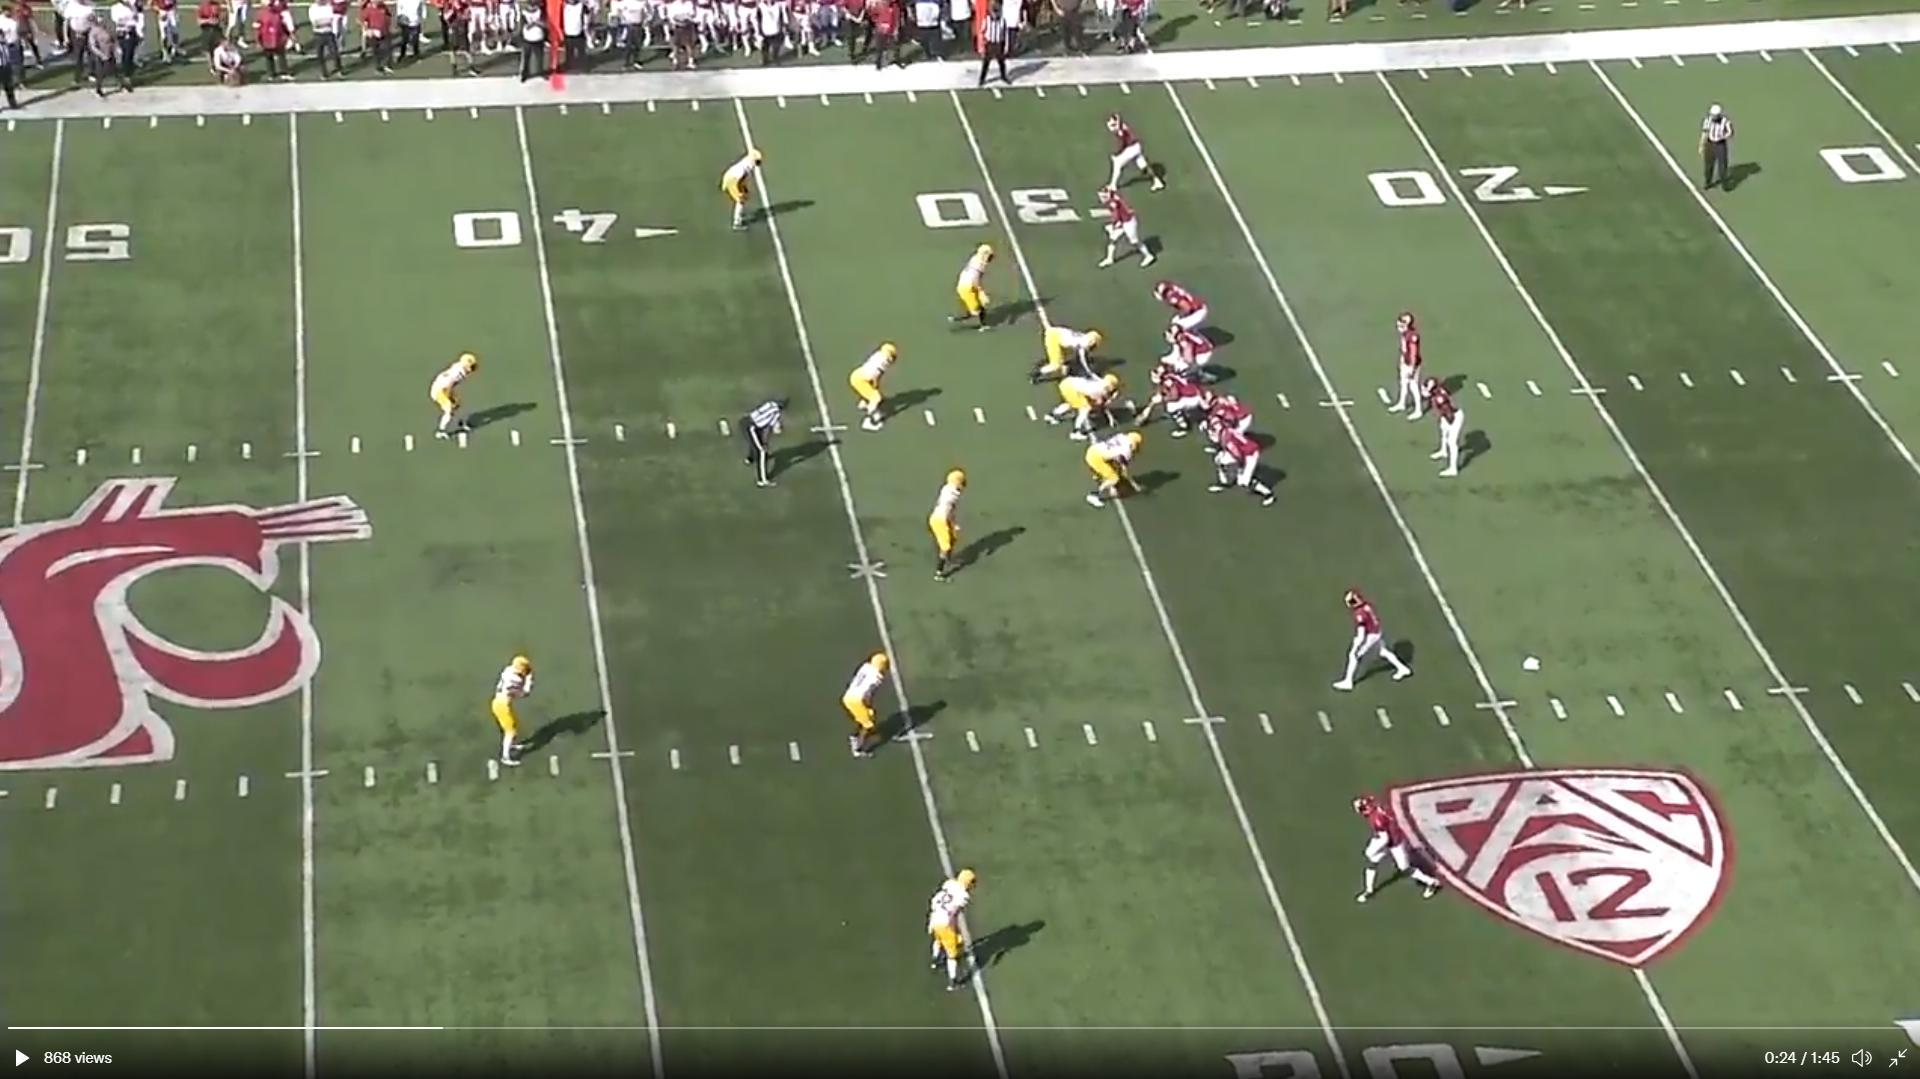defense: (927, 862, 988, 998), (837, 646, 898, 766), (490, 650, 542, 778), (1048, 372, 1126, 449), (425, 347, 481, 448), (927, 465, 972, 589), (1078, 427, 1143, 512), (850, 340, 902, 436), (951, 240, 1002, 337), (720, 146, 773, 239), (1033, 325, 1108, 387)
oline: (1210, 421, 1282, 511), (1142, 360, 1209, 441), (1198, 390, 1261, 461), (1163, 320, 1222, 386), (1155, 276, 1214, 333)
qb: (1395, 306, 1436, 426)
ref: (737, 393, 787, 496), (1695, 103, 1737, 201), (971, 8, 1011, 93)
skill: (1353, 788, 1445, 909), (1333, 584, 1420, 699), (1097, 112, 1165, 196), (1090, 186, 1154, 273), (1425, 373, 1474, 483)
